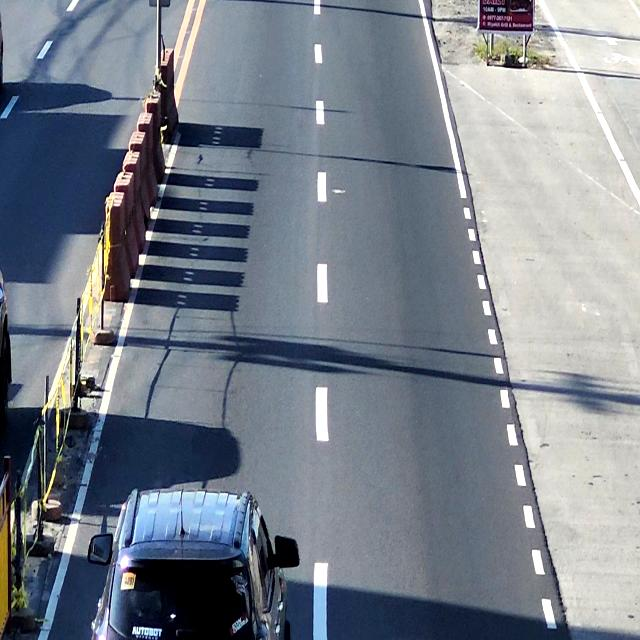Car: (90, 493, 288, 640)
